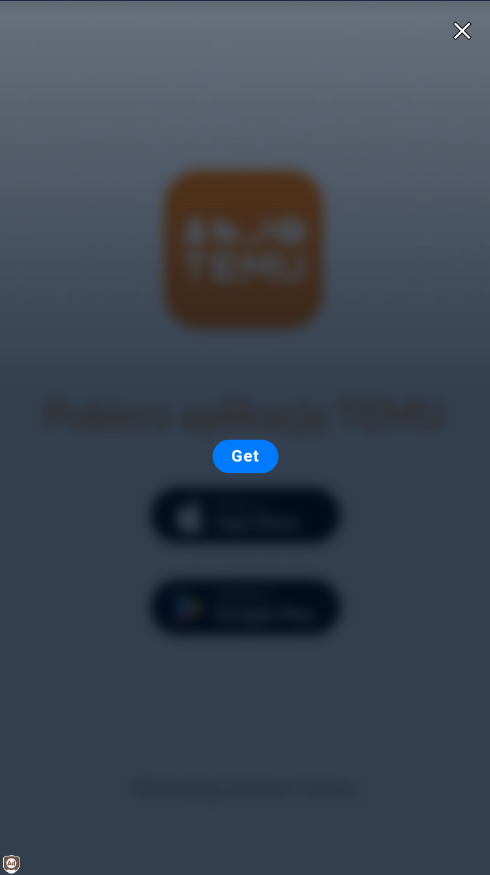close_button: (446, 15, 474, 45)
